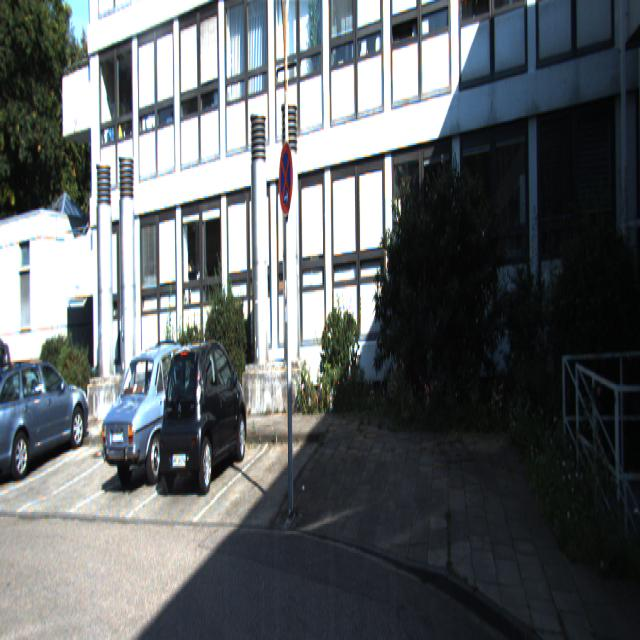Car: (97, 337, 213, 496), (157, 336, 248, 492), (0, 352, 88, 489), (0, 336, 13, 456)
